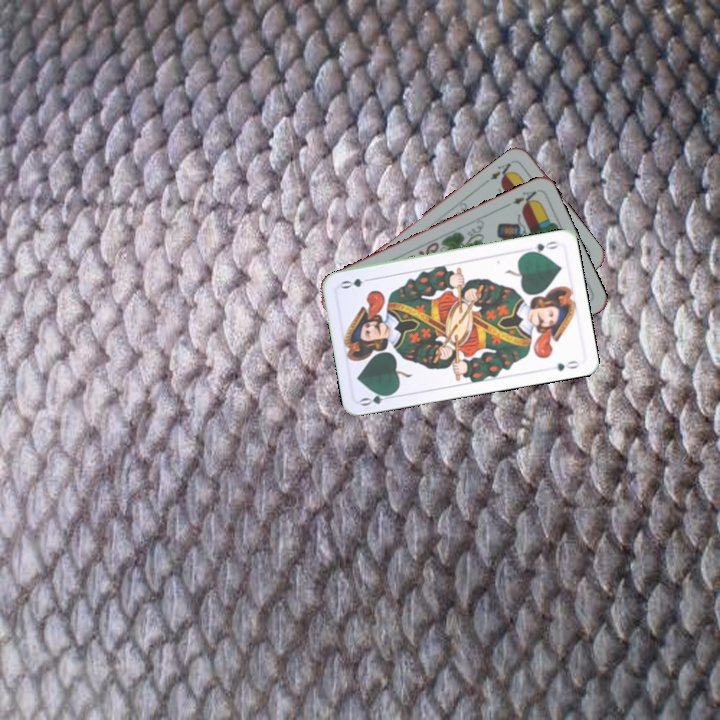EA: (486, 156, 517, 184), (508, 187, 539, 209)
GO: (357, 388, 397, 409), (522, 237, 562, 256)
